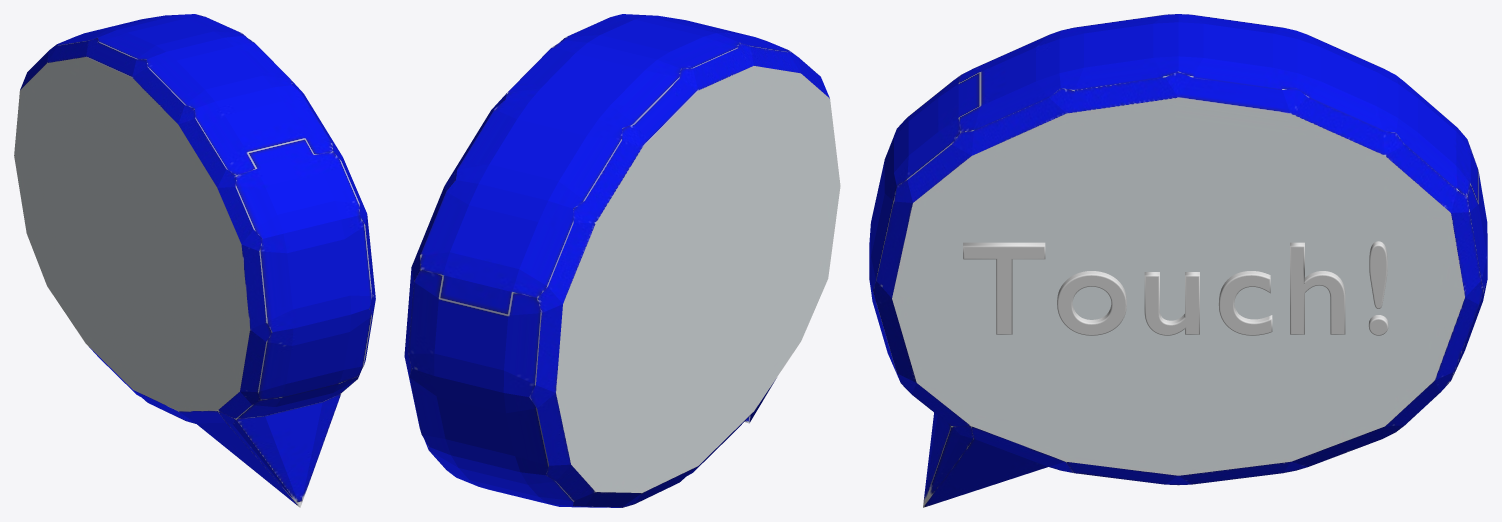
The model's file is touch (1).glb.
3 renders of one model, left to right at view 1: azimuth 30°, elevation 25°; view 2: azimuth 150°, elevation 25°; view 3: azimuth 270°, elevation 25°, orthographic. The views are drawn at different scales.
Parts seen in each view (by area): view 1: 円柱; view 2: 円柱; view 3: 円柱, Touch!.
Part boxes in pixels (box(x1,y1,x2,y2)): 円柱: box(14, 14, 375, 507); 円柱: box(404, 14, 840, 507); 円柱: box(869, 14, 1487, 507); Touch!: box(963, 241, 1388, 335).
Size of the model in its own units: 1.48 by 4.14 by 4.95.
Materials: 1 (1 with a texture image).
